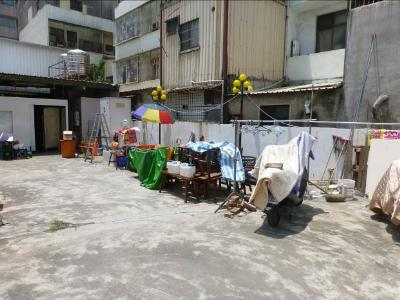box: (60, 125, 75, 141)
bucket: (336, 176, 357, 203), (60, 138, 77, 159), (179, 160, 197, 179), (165, 159, 181, 175)
plastic_bag: (184, 138, 246, 182), (130, 145, 168, 189)
